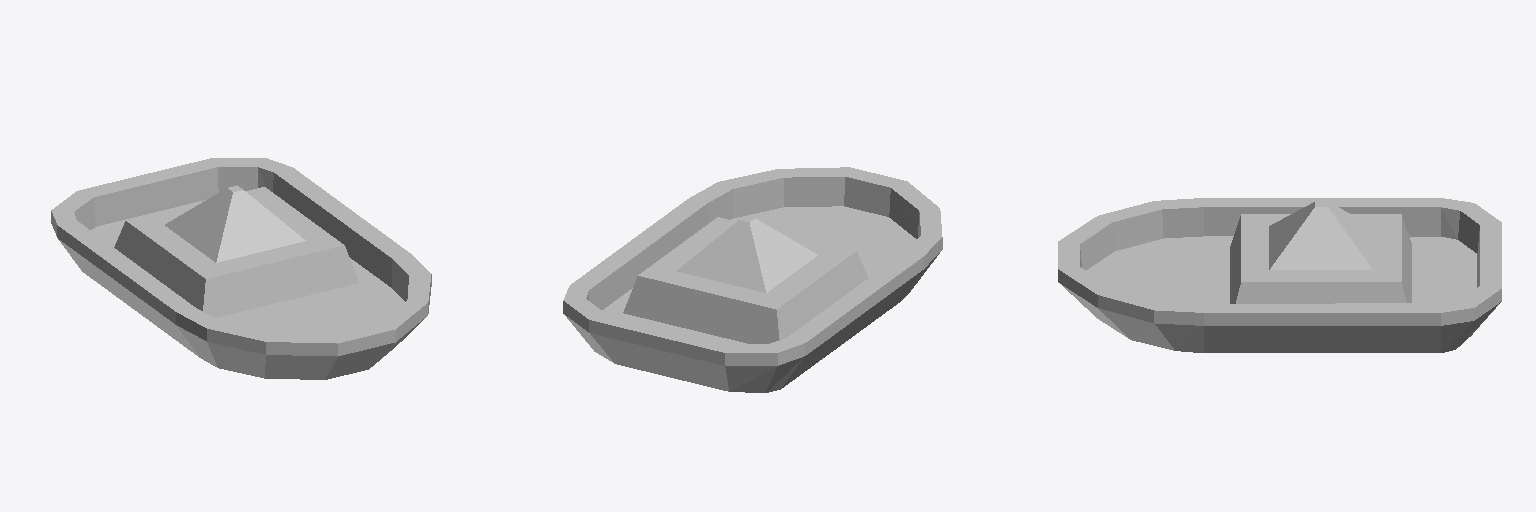
The model's file is EnemyShipBase.obj.
The picture shows the model from 3 angles: view 1: azimuth 30°, elevation 25°; view 2: azimuth 150°, elevation 25°; view 3: azimuth 270°, elevation 25°; orthographic projection.
Visible parts, largest first — view 1: Cube.026; view 2: Cube.026; view 3: Cube.026.
Part boxes in pixels (x1,y1,x2,y2): Cube.026: (51,158,431,379); Cube.026: (563,167,942,392); Cube.026: (1058,198,1501,352).
Bounding box in the file's own units: 0.5102 × 0.215 × 0.8302.